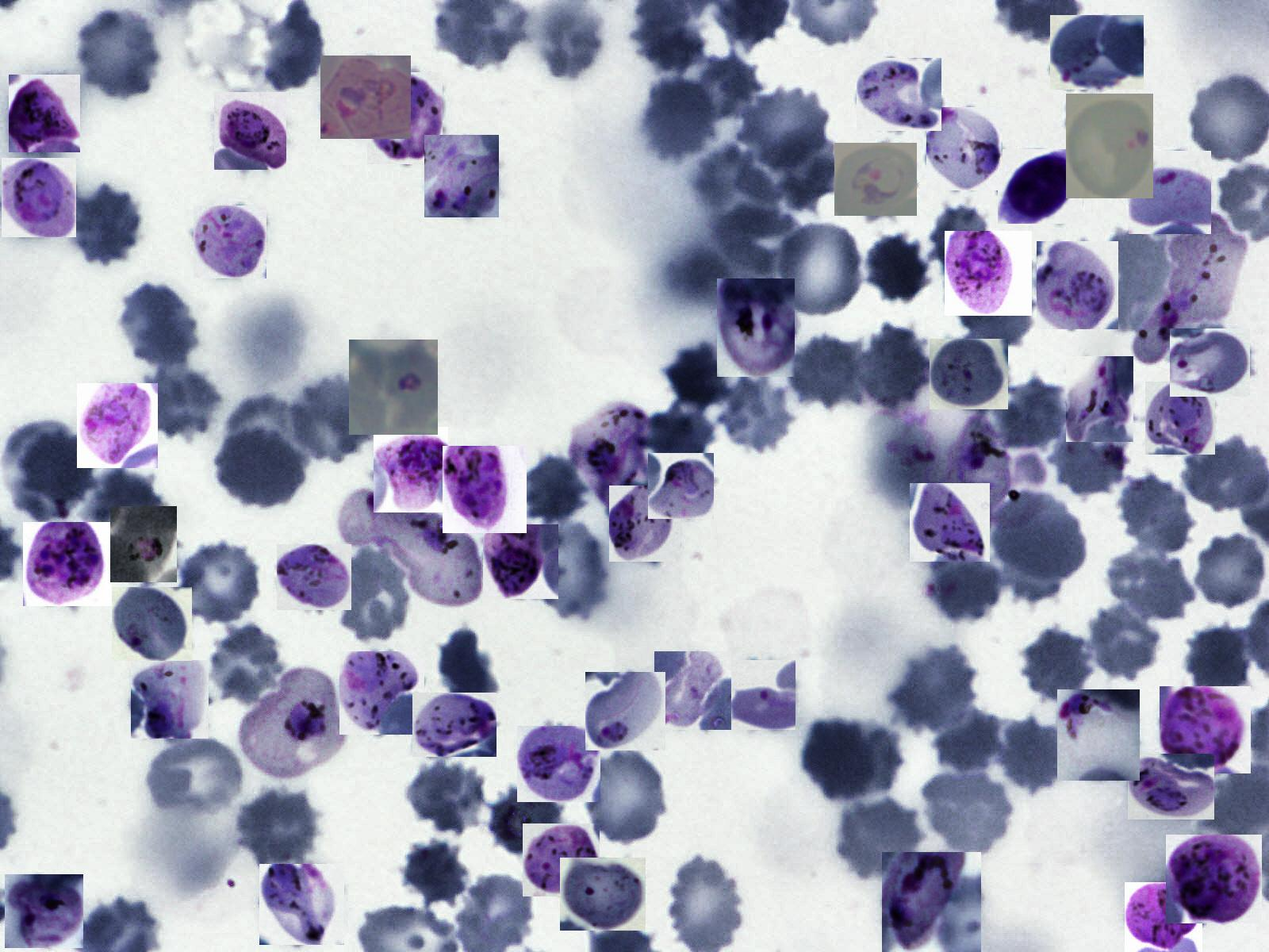Infected: (1135, 210, 1248, 363), (341, 487, 482, 606), (245, 662, 347, 781), (882, 852, 981, 952), (569, 397, 653, 511), (1066, 94, 1153, 198), (349, 340, 438, 435), (1166, 835, 1262, 923), (1160, 686, 1251, 774), (718, 278, 796, 377), (1057, 689, 1140, 781), (320, 56, 411, 139), (945, 231, 1032, 316), (24, 522, 112, 606), (443, 446, 527, 533), (339, 651, 424, 735), (1037, 241, 1118, 329), (1050, 15, 1144, 90), (367, 72, 443, 164), (77, 383, 158, 468), (259, 864, 344, 945), (1129, 151, 1211, 234), (926, 107, 1003, 190), (998, 149, 1083, 224), (910, 483, 990, 562), (517, 726, 600, 802), (374, 427, 448, 512), (560, 858, 646, 931), (585, 672, 665, 750), (945, 414, 1008, 512), (131, 660, 209, 739), (424, 135, 499, 217), (857, 58, 941, 131), (655, 651, 732, 730), (834, 143, 917, 216), (487, 784, 565, 860), (112, 587, 192, 661), (2, 158, 76, 237), (5, 874, 83, 948), (1066, 356, 1133, 442), (1128, 754, 1214, 820), (483, 524, 558, 599), (523, 823, 600, 896), (214, 92, 286, 170), (1170, 328, 1250, 397), (609, 486, 681, 562), (930, 339, 1008, 409), (10, 75, 80, 152), (1125, 882, 1202, 952), (412, 693, 496, 757), (194, 205, 266, 278), (1145, 382, 1215, 455), (110, 506, 177, 582), (277, 544, 351, 610), (728, 660, 796, 730), (648, 453, 714, 519)
Uninfected: (209, 423, 311, 512), (988, 489, 1086, 580), (832, 795, 926, 884), (332, 545, 414, 645), (887, 646, 980, 733), (777, 222, 861, 317), (925, 766, 1013, 855), (533, 520, 611, 620), (736, 86, 828, 170), (585, 746, 665, 840), (947, 261, 1030, 351), (9, 437, 94, 524), (638, 77, 720, 164), (78, 9, 158, 98), (119, 283, 200, 370), (229, 393, 320, 470), (855, 320, 934, 407), (149, 740, 243, 813), (292, 377, 374, 460), (784, 332, 868, 413), (238, 788, 320, 870), (1106, 228, 1169, 334), (764, 125, 840, 210), (80, 466, 159, 547), (801, 716, 876, 801), (182, 543, 259, 624), (408, 760, 490, 836), (1106, 548, 1194, 618), (1117, 474, 1193, 555), (67, 181, 140, 263), (926, 707, 1008, 779), (205, 626, 282, 702), (718, 374, 794, 451), (1183, 623, 1258, 700), (140, 368, 215, 444), (923, 551, 1003, 621), (1050, 426, 1128, 496), (1021, 627, 1093, 702), (925, 202, 994, 280), (1087, 605, 1160, 678), (998, 716, 1067, 793), (996, 375, 1069, 447), (435, 626, 496, 708), (1198, 533, 1264, 606), (523, 452, 585, 528), (665, 343, 733, 411), (867, 234, 930, 304), (645, 404, 716, 466), (402, 840, 468, 906), (697, 52, 761, 119)
